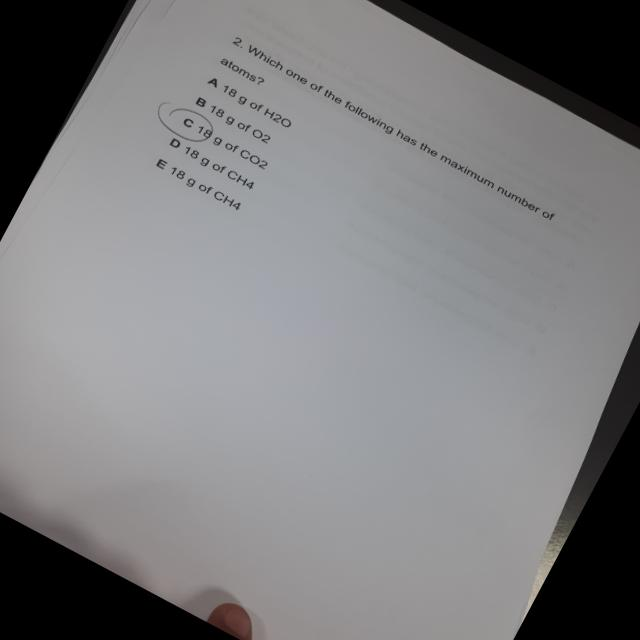C: (153, 96, 221, 151)
